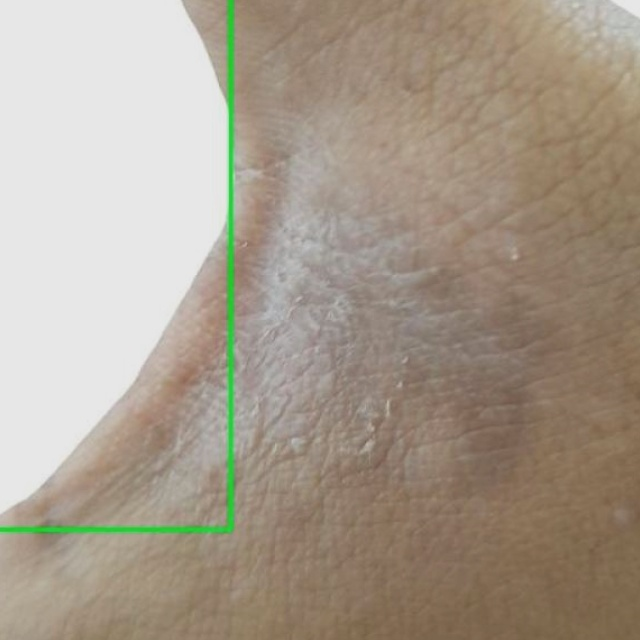Scabies: (0, 0, 230, 529)
